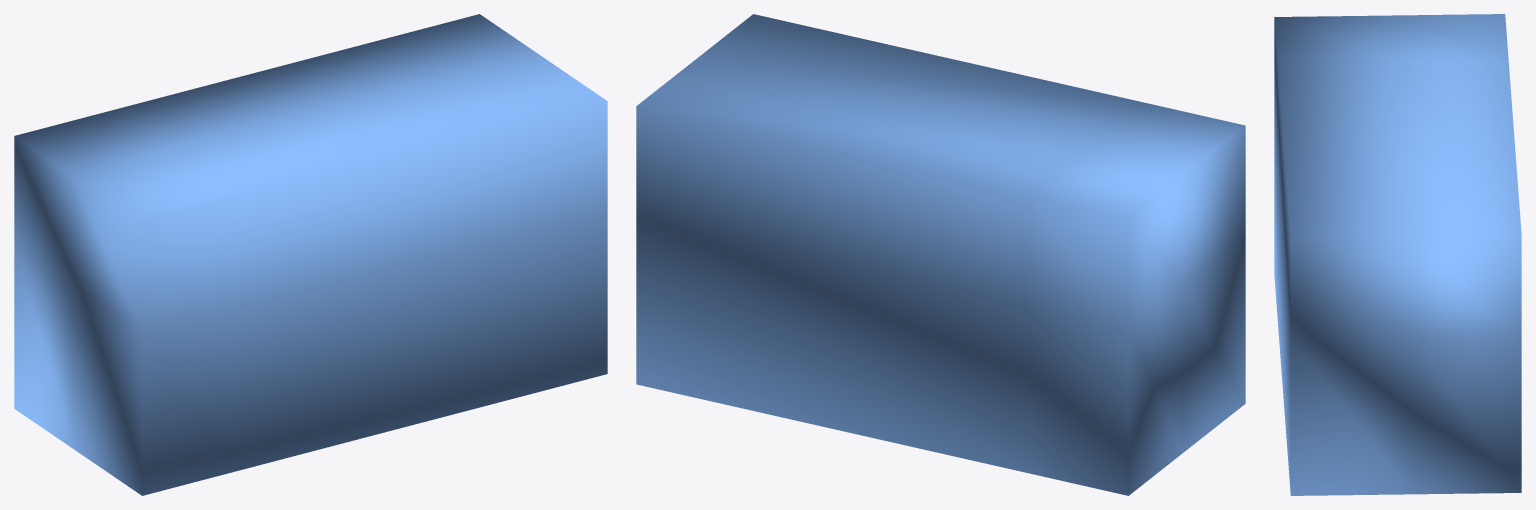
The model's file is oven.glb.
3 renders of one model, left to right at view 1: azimuth 30°, elevation 25°; view 2: azimuth 150°, elevation 25°; view 3: azimuth 270°, elevation 25°, orthographic. The views are drawn at different scales.
Parts seen in each view (by area): view 1: horno; view 2: horno; view 3: horno.
Part boxes in pixels (left/top/right/bottom): horno: left=14, top=14, right=607, bottom=495; horno: left=636, top=14, right=1245, bottom=495; horno: left=1274, top=14, right=1521, bottom=495.
Size of what is drawn, in the model's own units: 5.62 by 3.05 by 2.63.
